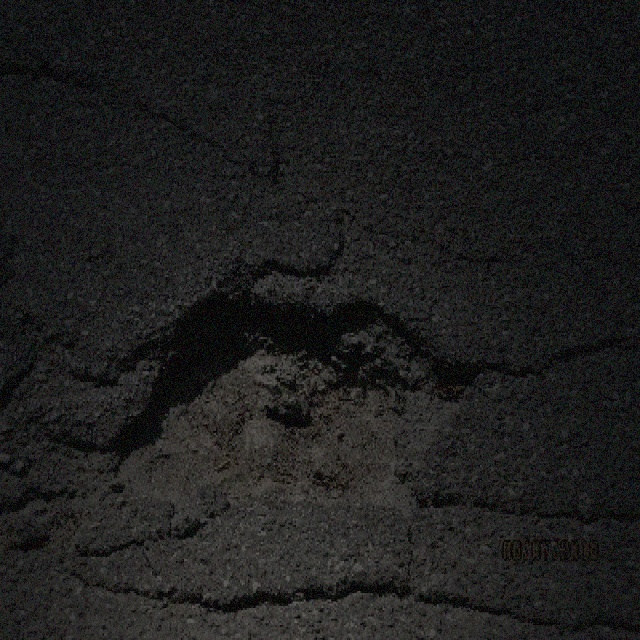pothole: (104, 277, 483, 514)
